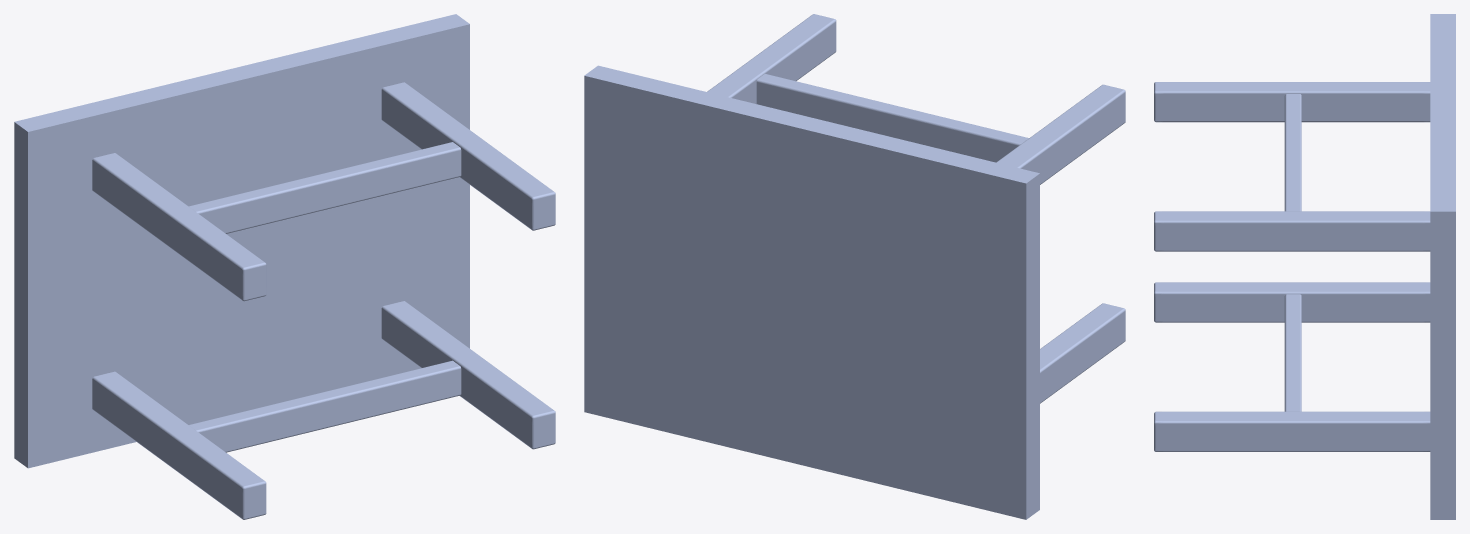
File: VIS_Table_11_2 .dae
3 views of the same model, side by side, from view 1: azimuth 30°, elevation 25°; view 2: azimuth 150°, elevation 25°; view 3: azimuth 270°, elevation 25° (orthographic). The views are drawn at different scales.
Parts seen in each view (by area): view 1: VIS_Table_11_2; view 2: VIS_Table_11_2; view 3: VIS_Table_11_2.
Boxes of the visible parts, x1=… form: VIS_Table_11_2: x1=14, y1=14, x2=555, y2=519; VIS_Table_11_2: x1=584, y1=14, x2=1125, y2=519; VIS_Table_11_2: x1=1154, y1=14, x2=1455, y2=519.
Size of the model in its own units: 110 by 71 by 80.
